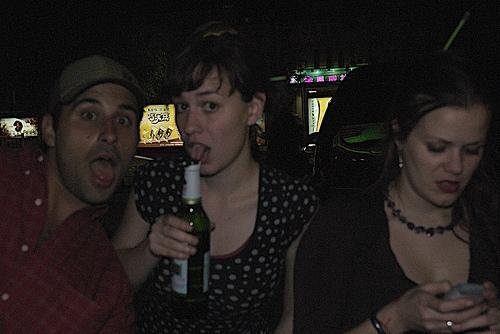car: (301, 66, 411, 188)
